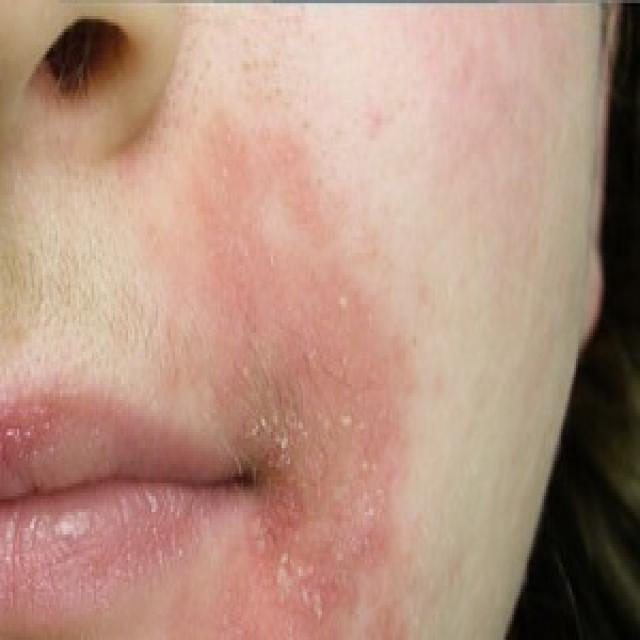Rosacea: (237, 367, 387, 608)
